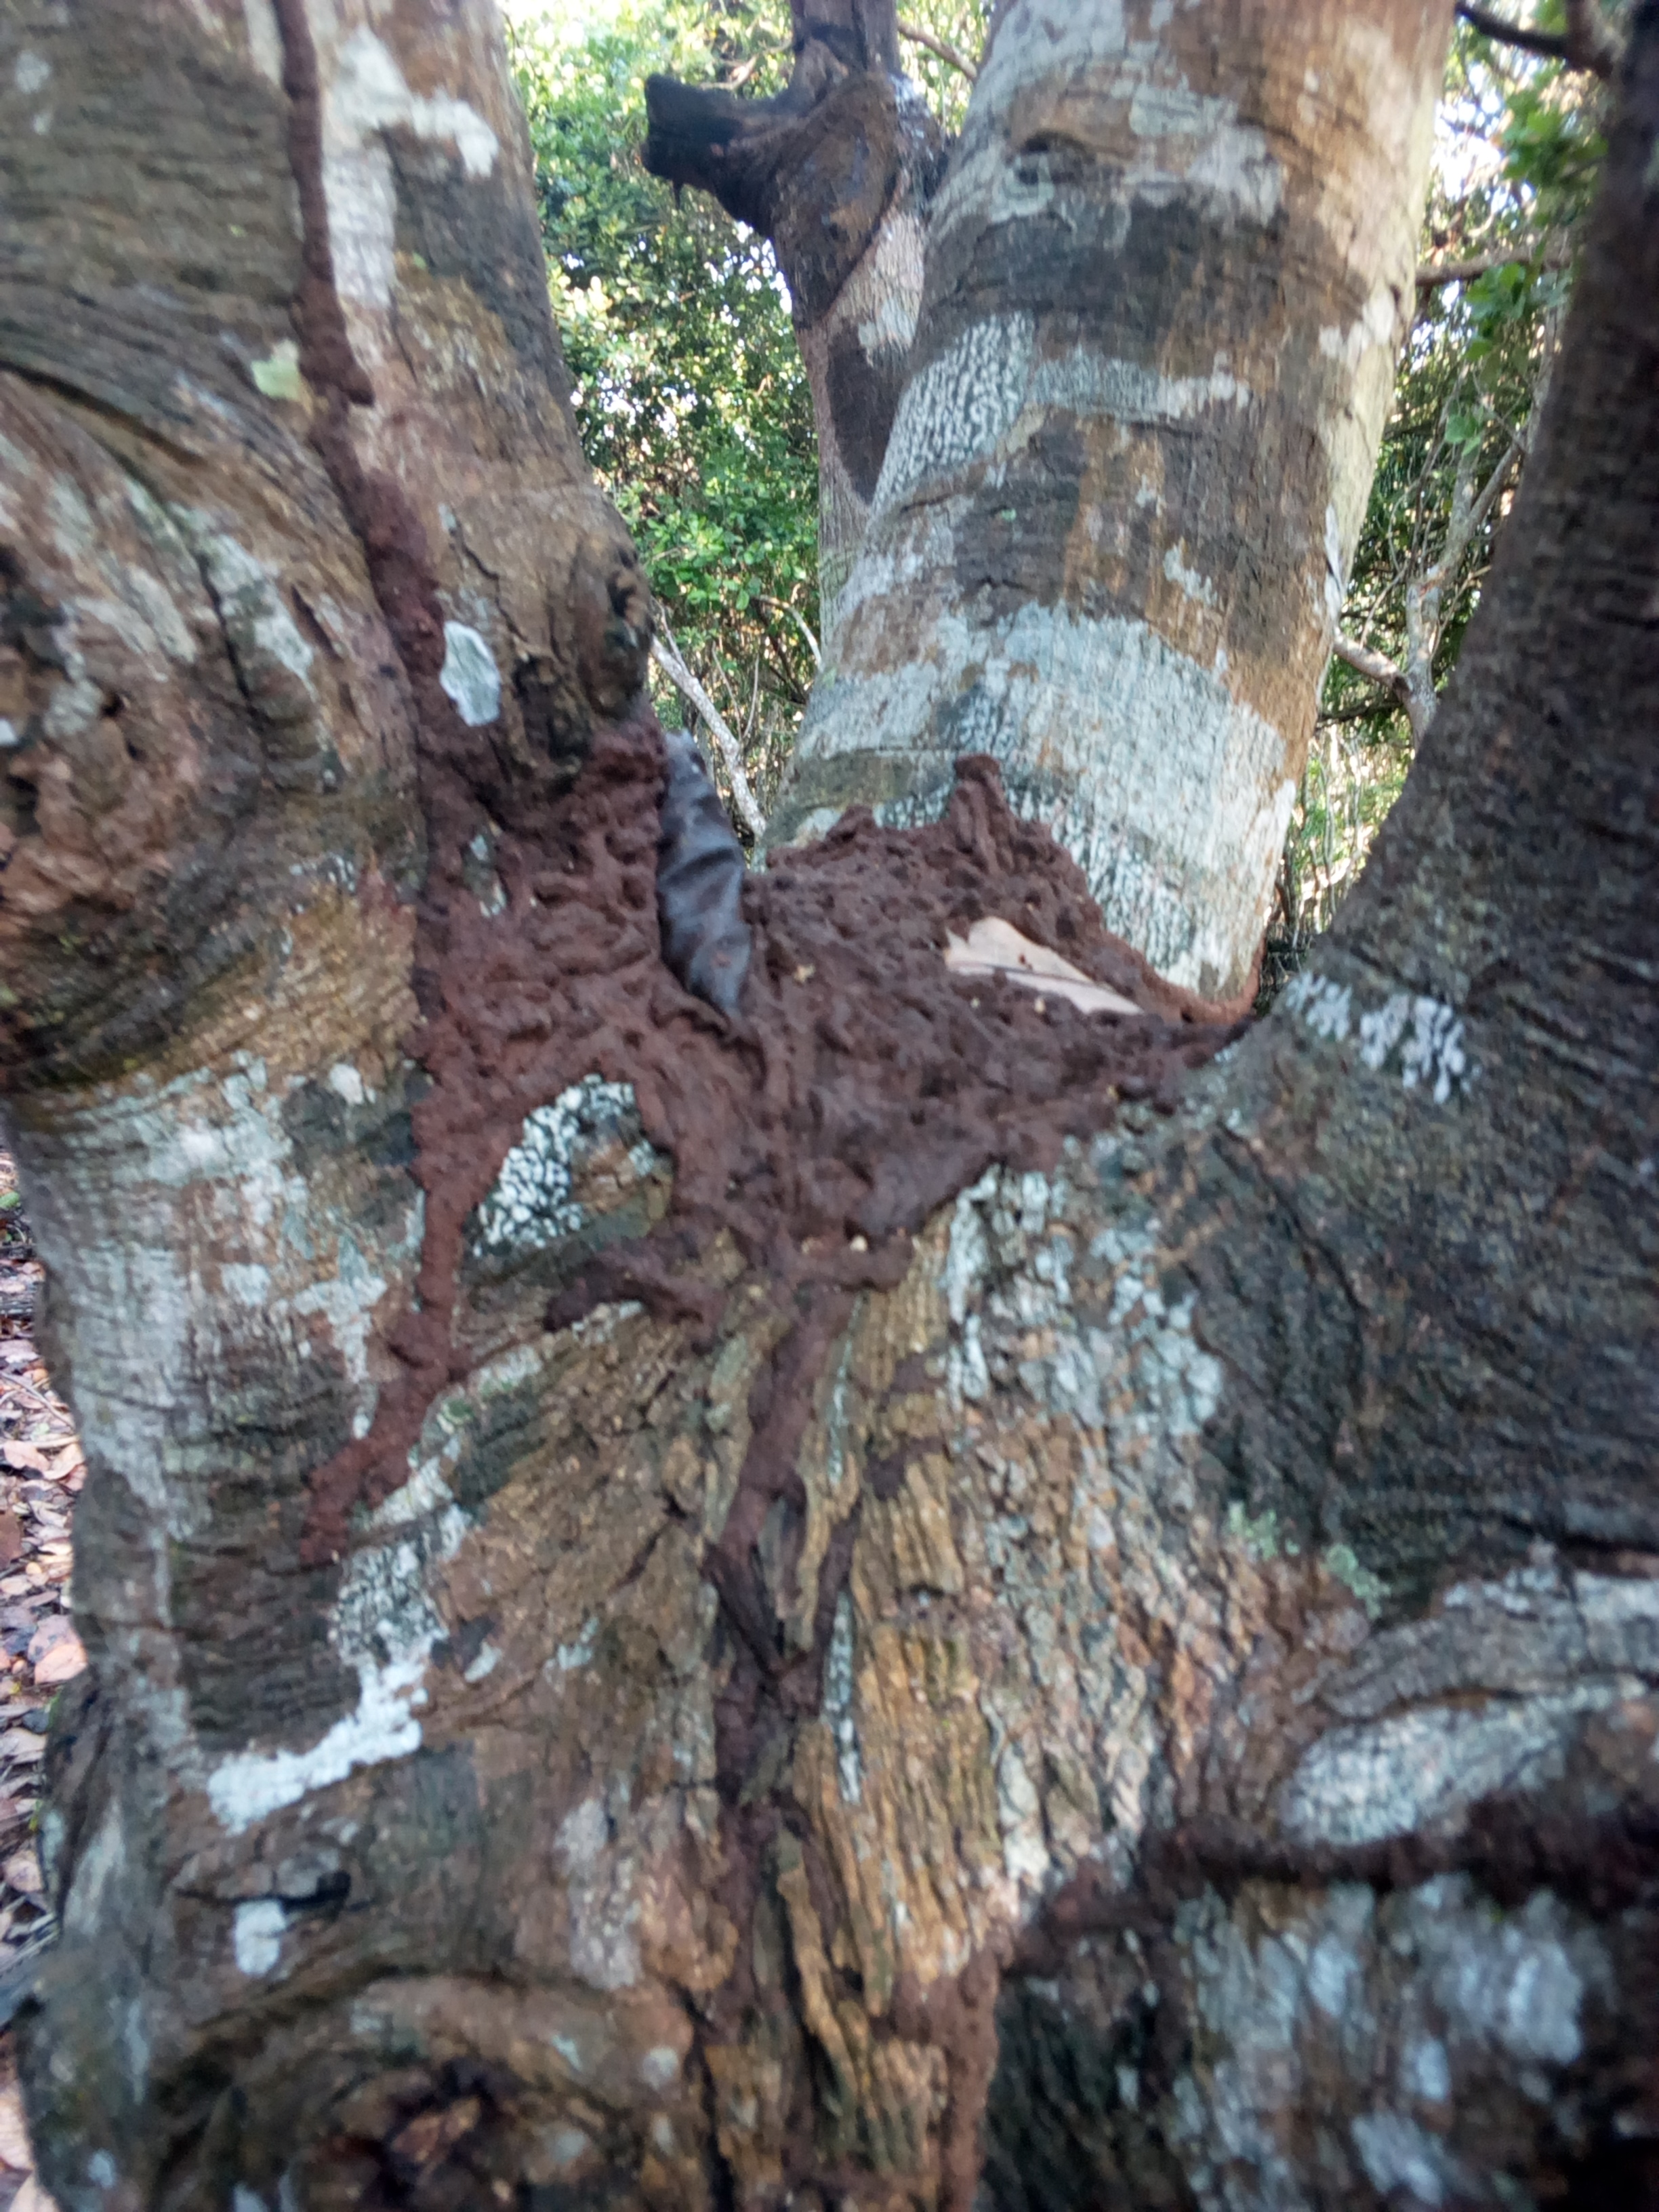Termites: (392, 751, 1145, 1533), (284, 21, 474, 712), (1066, 1750, 1659, 1940)
